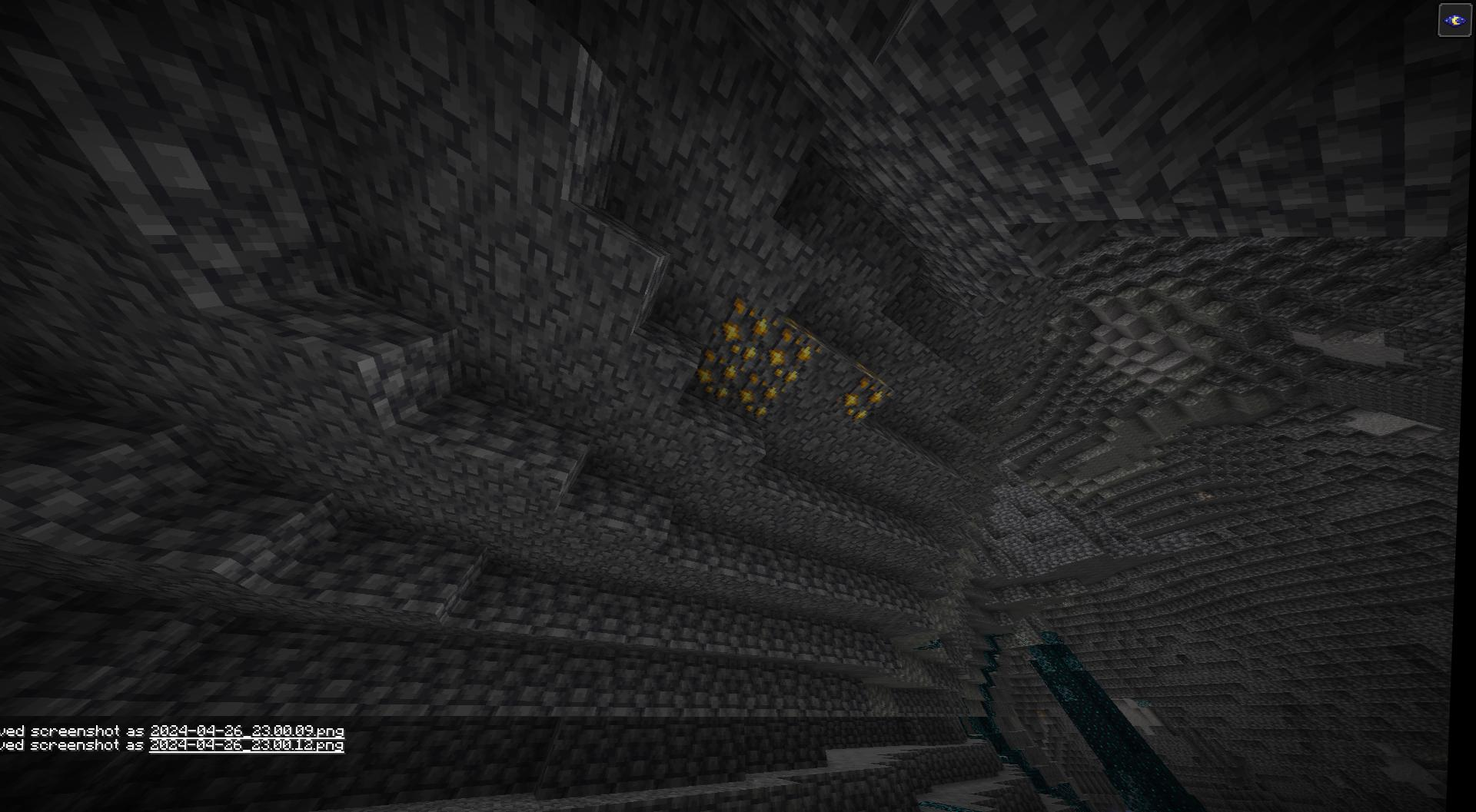gold ore: (715, 297, 774, 359), (696, 349, 744, 399), (770, 333, 816, 381), (737, 370, 783, 417), (844, 381, 892, 420)
